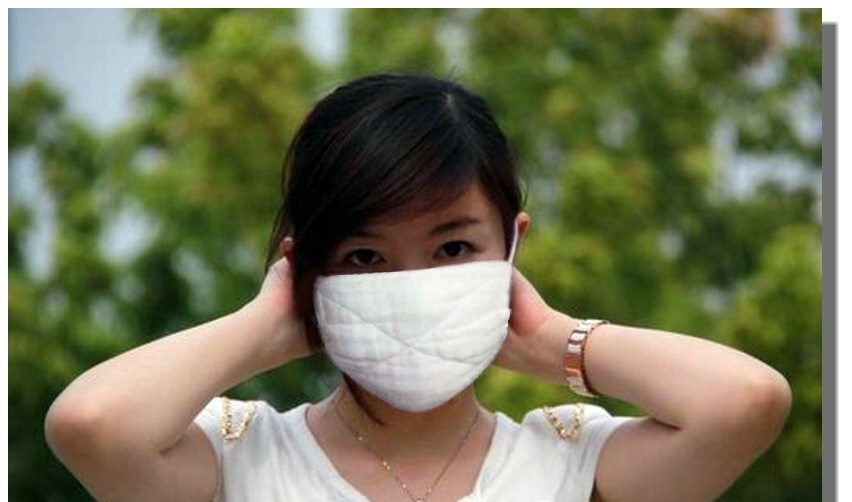face_mask: (317, 163, 509, 413)
